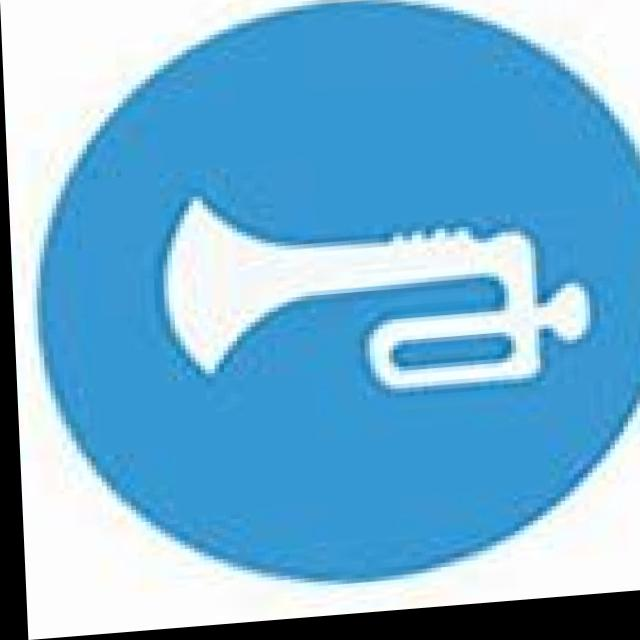COMPULSARY_SOUND_HORN: (15, 0, 640, 613)
